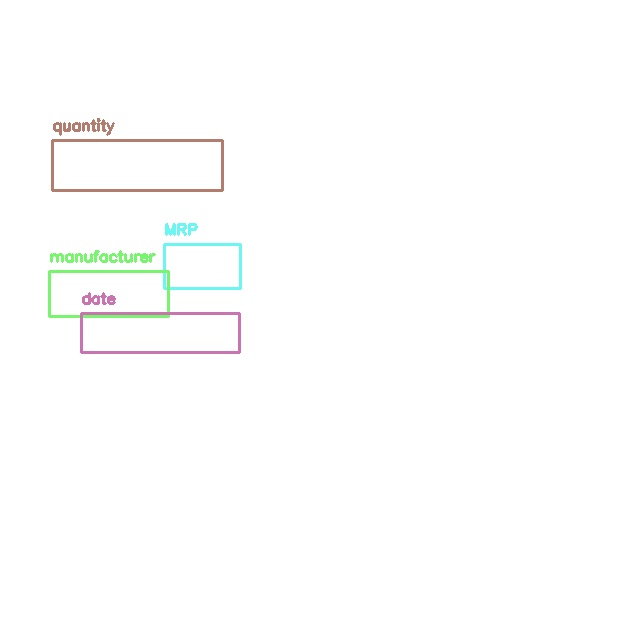MRP: (164, 244, 240, 288)
date: (81, 313, 239, 352)
manufacturer: (49, 271, 168, 316)
quantity: (52, 140, 222, 190)
